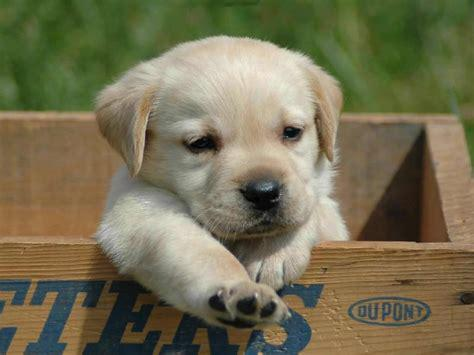dog: (95, 36, 348, 328)
